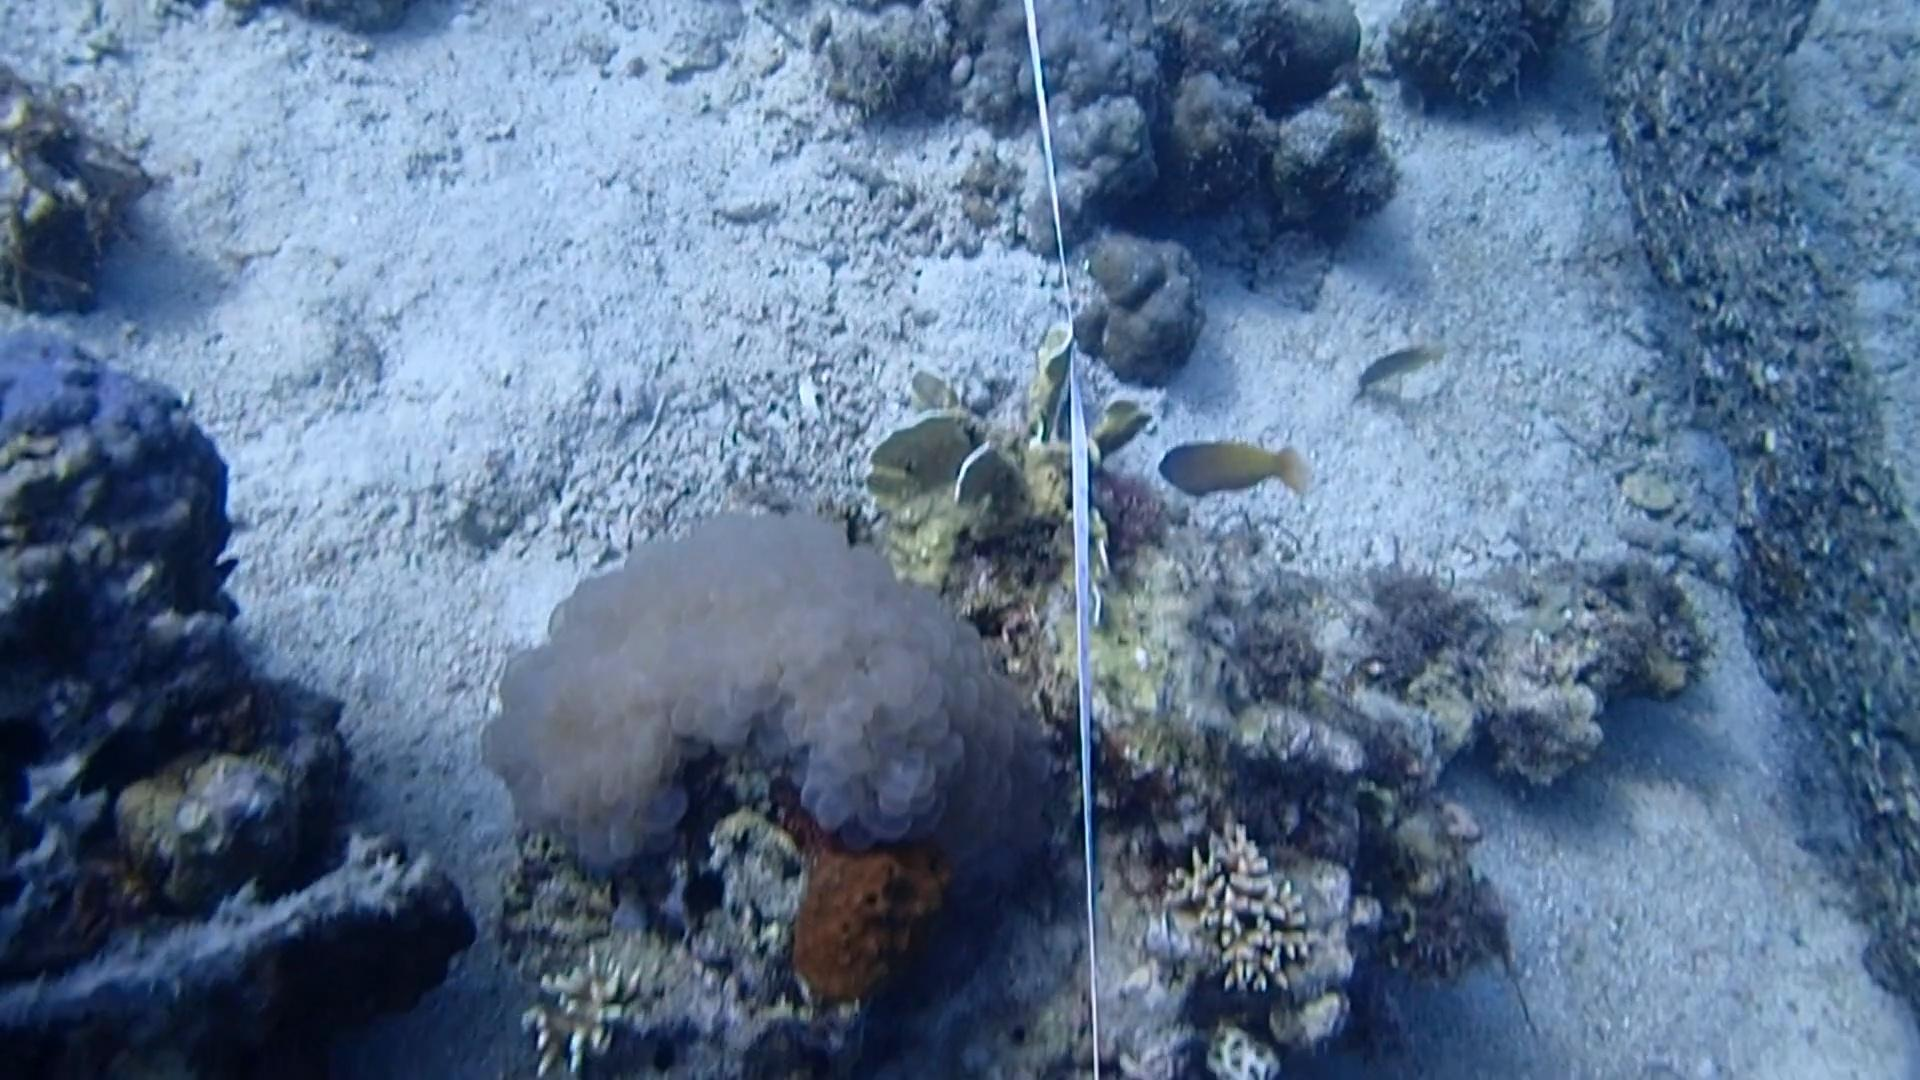Light Fish: (1341, 326, 1444, 409)
Yellow-Blue Fish: (1151, 429, 1321, 520)
